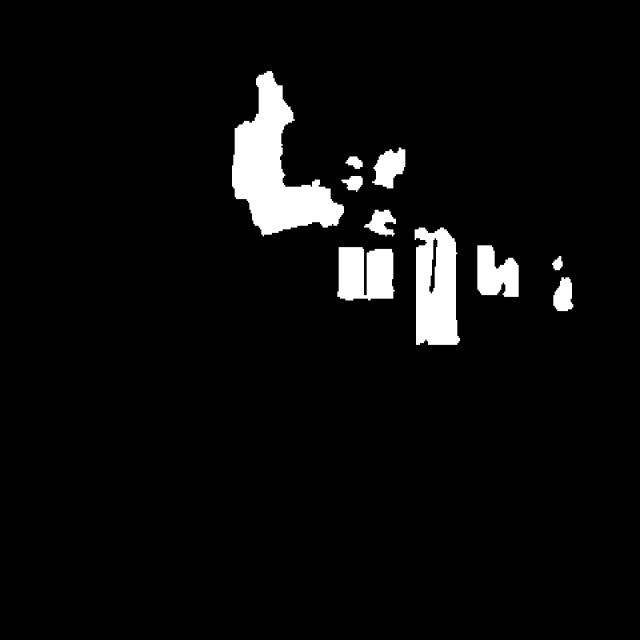fire: (188, 74, 608, 405)
